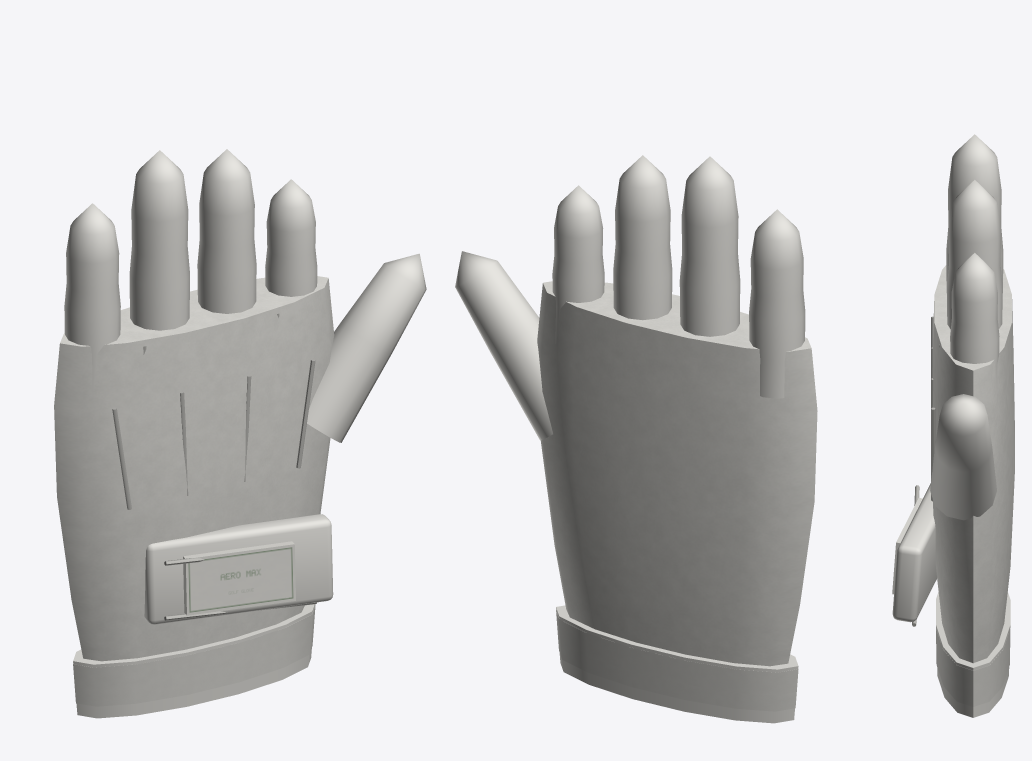
Rendered from pf_glove_white.glb.
The picture shows the model from 3 angles, left to right: view 1: azimuth 30°, elevation 25°; view 2: azimuth 150°, elevation 25°; view 3: azimuth 270°, elevation 25°; orthographic projection. The views are drawn at different scales.
Parts seen in each view (by area): view 1: pf_glove_white_body; view 2: pf_glove_white_body; view 3: pf_glove_white_body.
Boxes of the visible parts, <box> form: pf_glove_white_body: <box>54,149,426,718</box>; pf_glove_white_body: <box>455,155,817,723</box>; pf_glove_white_body: <box>892,134,1014,717</box>.
Size of the model in its own units: 0.1299 by 0.2 by 0.0394.
5 materials, 3 textured.
